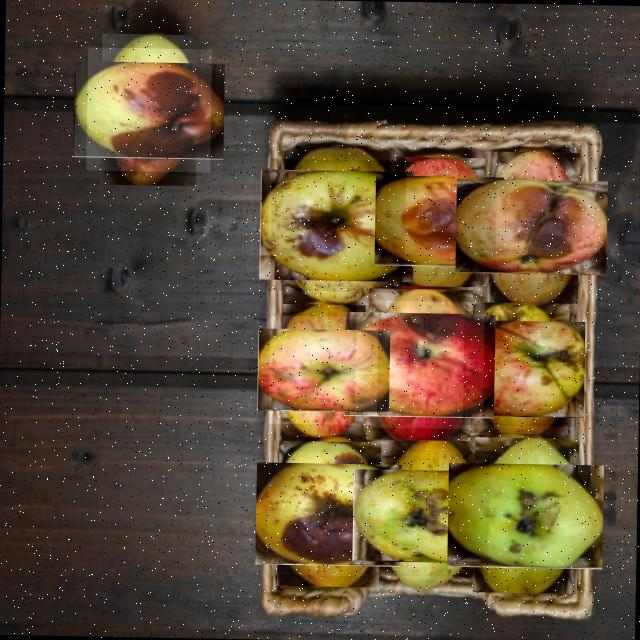Rotten Apple: (270, 158, 406, 292), (460, 448, 592, 580), (354, 298, 486, 429), (468, 163, 594, 290), (266, 449, 392, 576), (86, 46, 212, 172), (366, 454, 490, 577), (462, 310, 578, 426), (384, 164, 497, 277), (268, 314, 379, 425)
